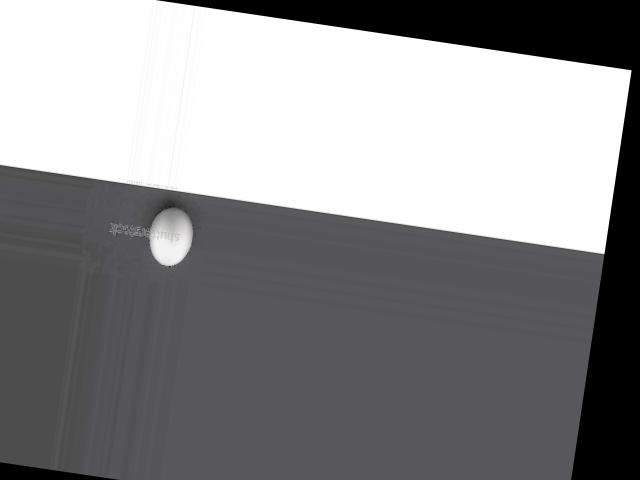egg: (145, 204, 196, 269)
